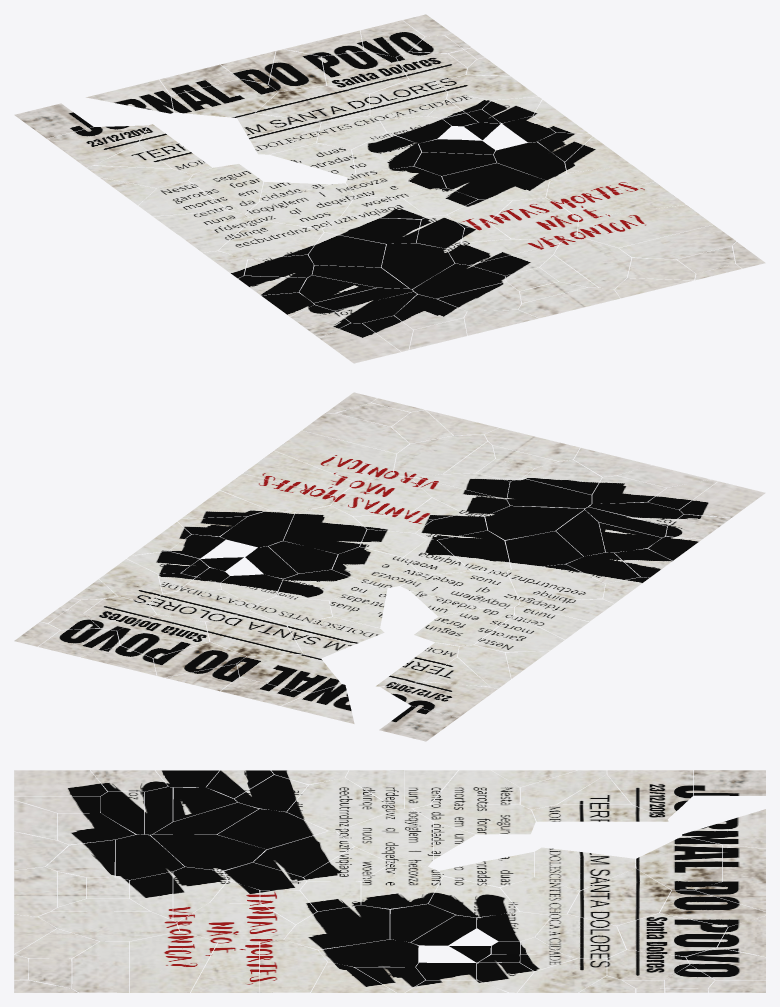
The model's file is jornal.fbx.
The picture shows the model from 3 angles, top to bottom: view 1: azimuth 30°, elevation 25°; view 2: azimuth 150°, elevation 25°; view 3: azimuth 270°, elevation 25°; orthographic projection. The views are drawn at different scales.
Visible parts, largest first — view 1: Plane.003_cell.088, Plane.003_cell.051, Plane.003_cell.096, Plane.003_cell.093, Plane.003_cell.002, Plane.003_cell.016, Plane.003_cell.010, Plane.003_cell.056, Plane.003_cell.037, Plane.003_cell.067, Plane.003_cell.014, Plane.003_cell.082 (+69 smaller); view 2: Plane.003_cell.088, Plane.003_cell.051, Plane.003_cell.096, Plane.003_cell.002, Plane.003_cell.093, Plane.003_cell.016, Plane.003_cell.010, Plane.003_cell.056, Plane.003_cell.037, Plane.003_cell.067, Plane.003_cell.014, Plane.003_cell.082 (+69 smaller); view 3: Plane.003_cell.088, Plane.003_cell.051, Plane.003_cell.096, Plane.003_cell.002, Plane.003_cell.093, Plane.003_cell.016, Plane.003_cell.010, Plane.003_cell.056, Plane.003_cell.037, Plane.003_cell.067, Plane.003_cell.014, Plane.003_cell.082 (+74 smaller).
Boxes of the visible parts, x1=… form: Plane.003_cell.088: x1=577, y1=205, x2=713, y2=247; Plane.003_cell.051: x1=246, y1=183, x2=354, y2=228; Plane.003_cell.096: x1=255, y1=86, x2=369, y2=121; Plane.003_cell.093: x1=171, y1=79, x2=277, y2=117; Plane.003_cell.002: x1=489, y1=198, x2=577, y2=240; Plane.003_cell.016: x1=218, y1=219, x2=323, y2=259; Plane.003_cell.010: x1=442, y1=163, x2=548, y2=200; Plane.003_cell.056: x1=321, y1=51, x2=408, y2=93; Plane.003_cell.037: x1=554, y1=236, x2=631, y2=289; Plane.003_cell.067: x1=546, y1=165, x2=654, y2=204; Plane.003_cell.014: x1=47, y1=125, x2=147, y2=167; Plane.003_cell.082: x1=237, y1=114, x2=320, y2=154; Plane.003_cell.088: x1=274, y1=430, x2=396, y2=482; Plane.003_cell.051: x1=401, y1=571, x2=519, y2=608; Plane.003_cell.096: x1=206, y1=611, x2=302, y2=656; Plane.003_cell.002: x1=331, y1=474, x2=431, y2=515; Plane.003_cell.093: x1=237, y1=654, x2=340, y2=693; Plane.003_cell.016: x1=507, y1=564, x2=605, y2=601; Plane.003_cell.010: x1=283, y1=505, x2=366, y2=554; Plane.003_cell.056: x1=117, y1=614, x2=209, y2=657; Plane.003_cell.037: x1=393, y1=434, x2=486, y2=477; Plane.003_cell.067: x1=220, y1=474, x2=336, y2=511; Plane.003_cell.014: x1=381, y1=682, x2=497, y2=717; Plane.003_cell.082: x1=287, y1=617, x2=384, y2=658; Plane.003_cell.088: x1=130, y1=931, x2=217, y2=992; Plane.003_cell.051: x1=337, y1=809, x2=432, y2=866; Plane.003_cell.096: x1=568, y1=868, x2=671, y2=925; Plane.003_cell.002: x1=177, y1=903, x2=294, y2=941; Plane.003_cell.093: x1=636, y1=836, x2=722, y2=889; Plane.003_cell.016: x1=287, y1=777, x2=396, y2=831; Plane.003_cell.010: x1=284, y1=905, x2=389, y2=949; Plane.003_cell.056: x1=617, y1=913, x2=727, y2=956; Plane.003_cell.037: x1=38, y1=911, x2=178, y2=941; Plane.003_cell.067: x1=260, y1=939, x2=326, y2=992; Plane.003_cell.014: x1=607, y1=770, x2=693, y2=818; Plane.003_cell.082: x1=535, y1=847, x2=635, y2=890.
Bounding box in the file's own units: 140 × 0.1 × 200.
1 material, 1 textured.
